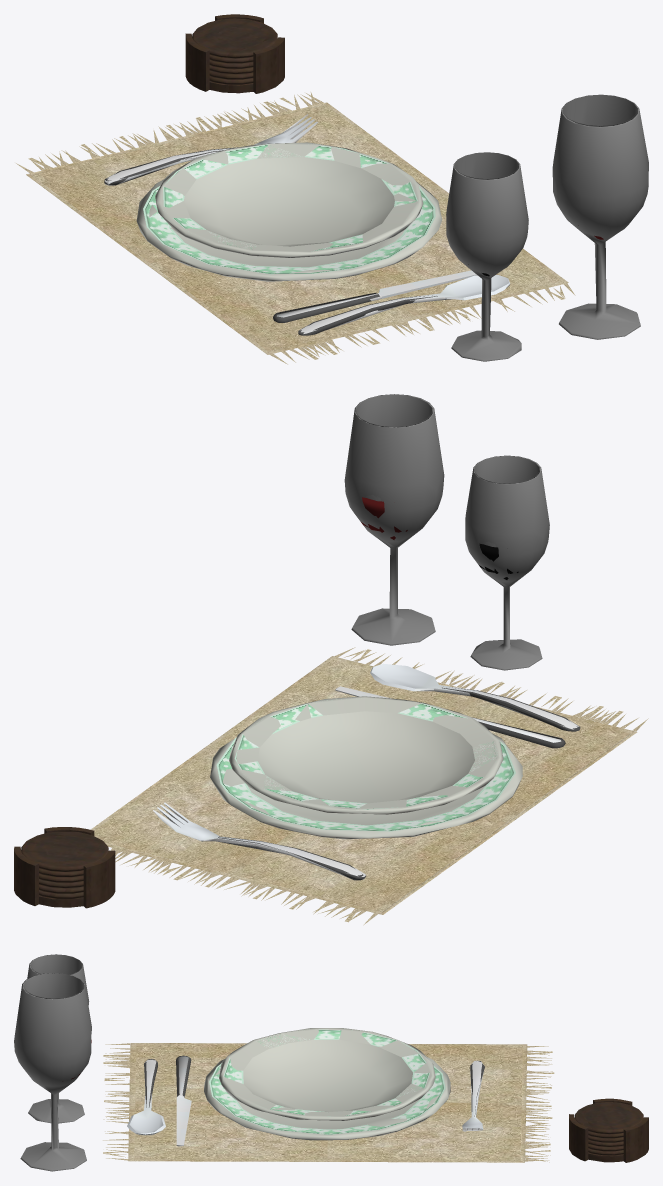
3 views of the same model, one above another, from view 1: azimuth 30°, elevation 25°; view 2: azimuth 150°, elevation 25°; view 3: azimuth 270°, elevation 25° (orthographic). The views are drawn at different scales.
Visible parts, largest first — view 1: Bistro_Research_Interior_Cotton_Placemat_1264, Bistro_Research_Interior_Paris_Plate_01B__3220 (×2), WineGlass4, WineGlass2, Bistro_Research_Interior_Paris_Plate_01A__3156 (×2), Bistro_Research_Interior_Coasters_paris_coasters_set_01_b5_1, Bistro_Research_Interior_Cutlery_12__1386 (×2), Bistro_Research_Interior_Cutlery_7__1498 (×2), Bistro_Research_Interior_Cutlery_3__1442 (×2); view 2: Bistro_Research_Interior_Cotton_Placemat_1264, Bistro_Research_Interior_Paris_Plate_01B__3220 (×2), WineGlass4, WineGlass2, Bistro_Research_Interior_Paris_Plate_01A__3156 (×2), Bistro_Research_Interior_Coasters_paris_coasters_set_01_b5_1, Bistro_Research_Interior_Cutlery_12__1386 (×2), Bistro_Research_Interior_Cutlery_7__1498; view 3: Bistro_Research_Interior_Cotton_Placemat_1264, Bistro_Research_Interior_Paris_Plate_01B__3220 (×2), WineGlass4, Bistro_Research_Interior_Paris_Plate_01A__3156 (×2), Bistro_Research_Interior_Coasters_paris_coasters_set_01_b5_1, WineGlass2, Bistro_Research_Interior_Cutlery_12__1386, Bistro_Research_Interior_Cutlery_3__1442, Bistro_Research_Interior_Cutlery_7__1498.
Boxes of the visible parts, box(x1,y1,x2,y2) form: Bistro_Research_Interior_Cotton_Placemat_1264: box(16, 92, 575, 364); Bistro_Research_Interior_Paris_Plate_01B__3220 (×2): box(155, 142, 423, 257); WineGlass4: box(552, 94, 648, 339); WineGlass2: box(446, 152, 528, 361); Bistro_Research_Interior_Paris_Plate_01A__3156 (×2): box(136, 179, 442, 281); Bistro_Research_Interior_Coasters_paris_coasters_set_01_b5_1: box(185, 14, 284, 93); Bistro_Research_Interior_Cutlery_12__1386 (×2): box(298, 275, 510, 335); Bistro_Research_Interior_Cutlery_7__1498 (×2): box(104, 114, 317, 185); Bistro_Research_Interior_Cutlery_3__1442 (×2): box(273, 270, 477, 322); Bistro_Research_Interior_Cotton_Placemat_1264: box(90, 647, 648, 925); Bistro_Research_Interior_Paris_Plate_01B__3220 (×2): box(229, 696, 503, 814); WineGlass4: box(344, 394, 444, 645); WineGlass2: box(465, 455, 549, 670); Bistro_Research_Interior_Paris_Plate_01A__3156 (×2): box(210, 733, 522, 839); Bistro_Research_Interior_Coasters_paris_coasters_set_01_b5_1: box(14, 827, 115, 908); Bistro_Research_Interior_Cutlery_12__1386 (×2): box(370, 663, 580, 731); Bistro_Research_Interior_Cutlery_7__1498: box(153, 802, 365, 879); Bistro_Research_Interior_Cotton_Placemat_1264: box(103, 1043, 554, 1162); Bistro_Research_Interior_Paris_Plate_01B__3220 (×2): box(219, 1028, 435, 1120); WineGlass4: box(14, 973, 91, 1171); Bistro_Research_Interior_Paris_Plate_01A__3156 (×2): box(204, 1057, 450, 1140); Bistro_Research_Interior_Coasters_paris_coasters_set_01_b5_1: box(569, 1098, 648, 1162); WineGlass2: box(27, 954, 89, 1123); Bistro_Research_Interior_Cutlery_12__1386: box(127, 1059, 165, 1135); Bistro_Research_Interior_Cutlery_3__1442: box(176, 1056, 191, 1146); Bistro_Research_Interior_Cutlery_7__1498: box(462, 1060, 483, 1131).
Bounding box in the file's own units: 0.3216 × 0.1987 × 0.6676.
Materials: 9 (7 with a texture image).
